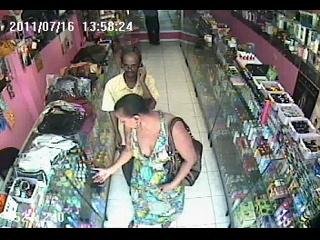Normal: (91, 94, 194, 227), (101, 50, 160, 112), (142, 10, 160, 46)
